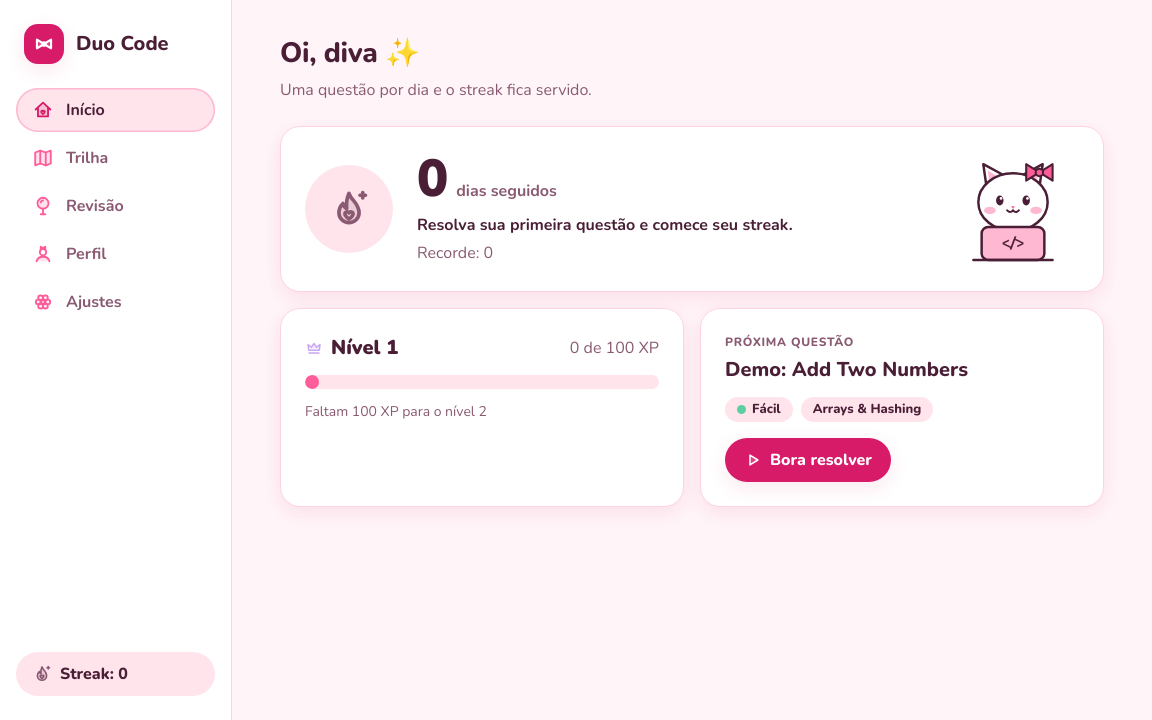
Scenario: Ajustes do lembrete (005 RF-6) › lembrete vem ligado às 19:00 e as mudanças são gravadas
Click the link "Ajustes": (77, 302) top-left (32, 291), bottom-right (122, 313)
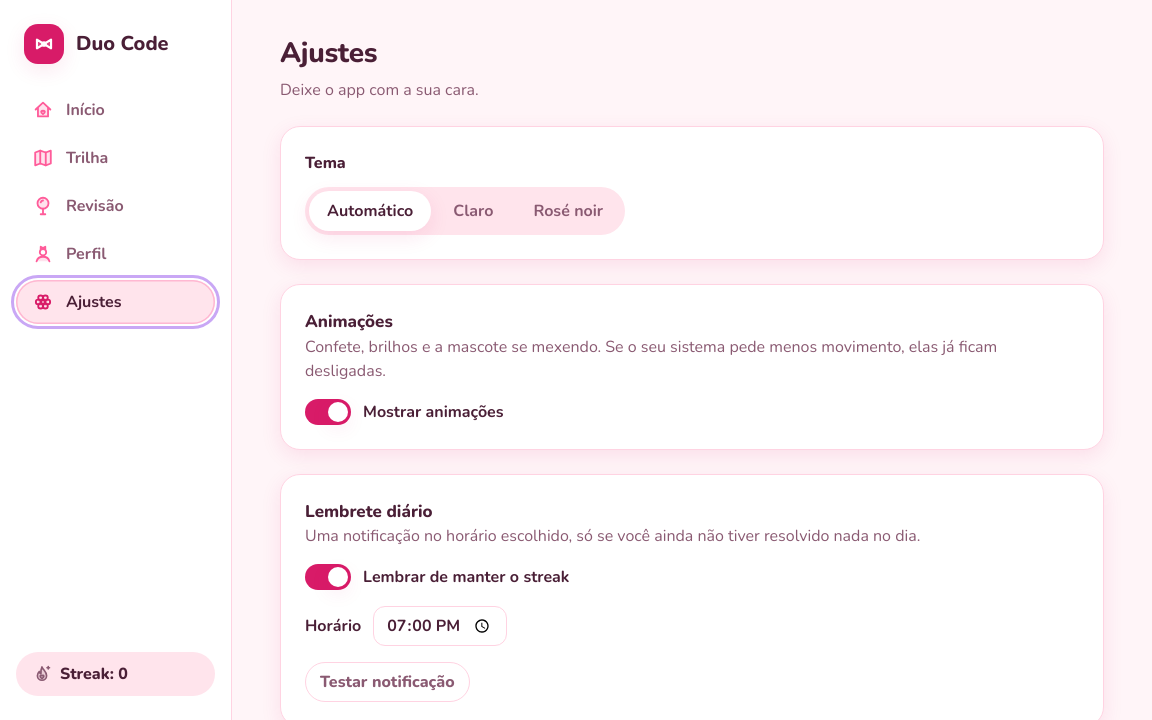
Now the switch labelled "Lembrar de manter o streak" is checked, box top-left (305, 564), bottom-right (569, 590)
Now the time field labelled "Horário" holds "19:00"
Replace the text in the time field labelled "Horário" with "07:30": (440, 626) top-left (373, 606), bottom-right (507, 646)
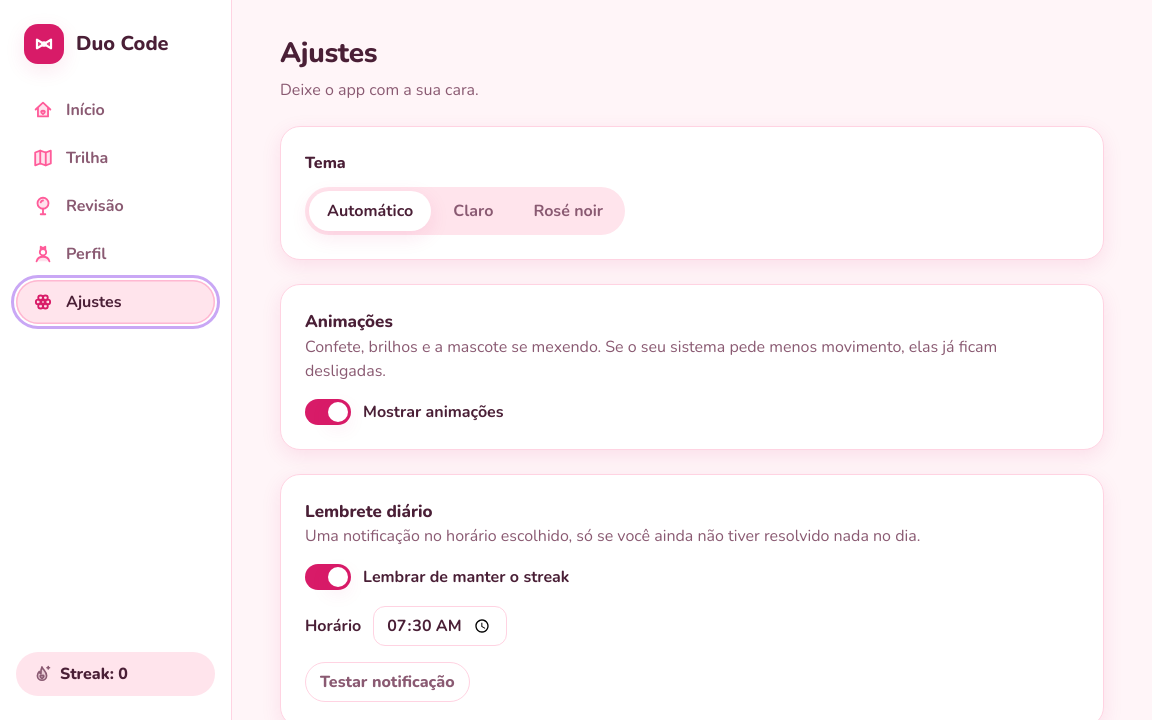
Click the switch labelled "Lembrar de manter o streak": (437, 577) top-left (305, 564), bottom-right (569, 590)
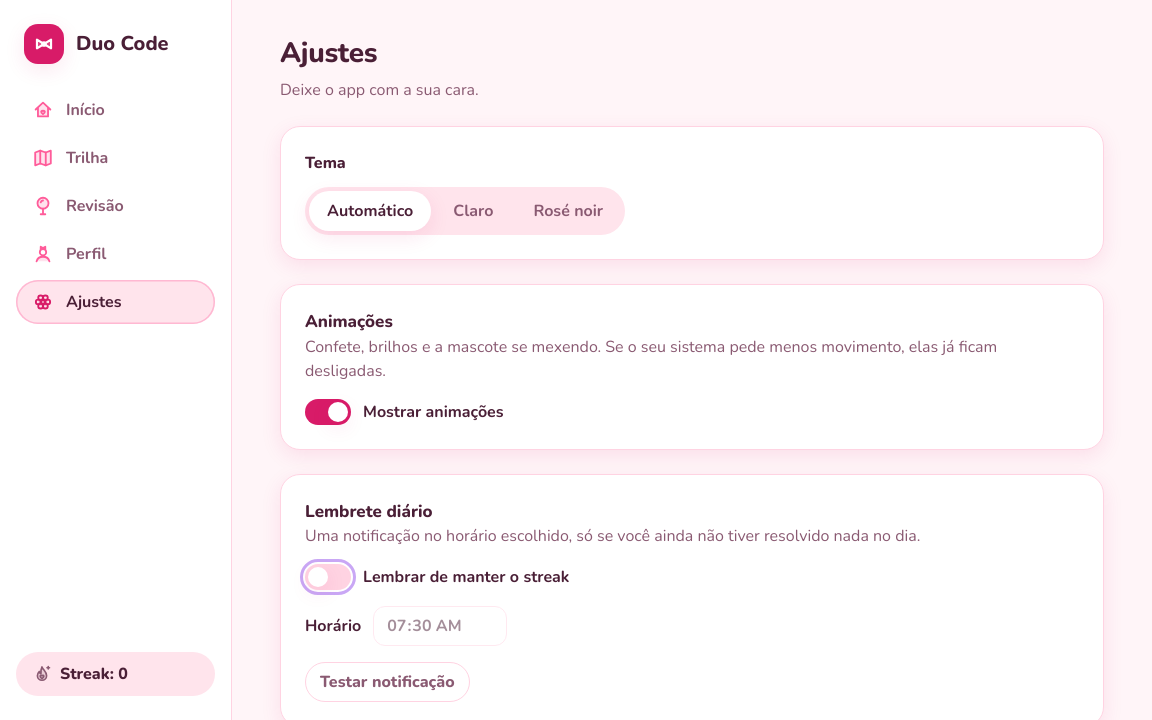
Now the time field labelled "Horário" is disabled, box top-left (373, 606), bottom-right (507, 646)
